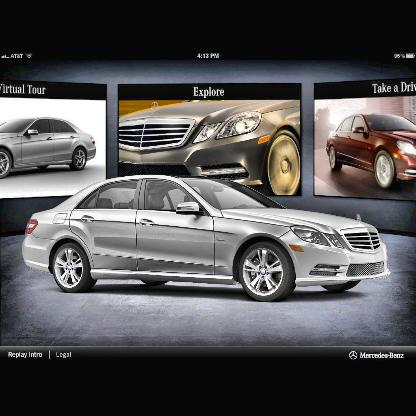Mercedes-Benz E-Class Sedan 2012: (23, 176, 392, 303)
